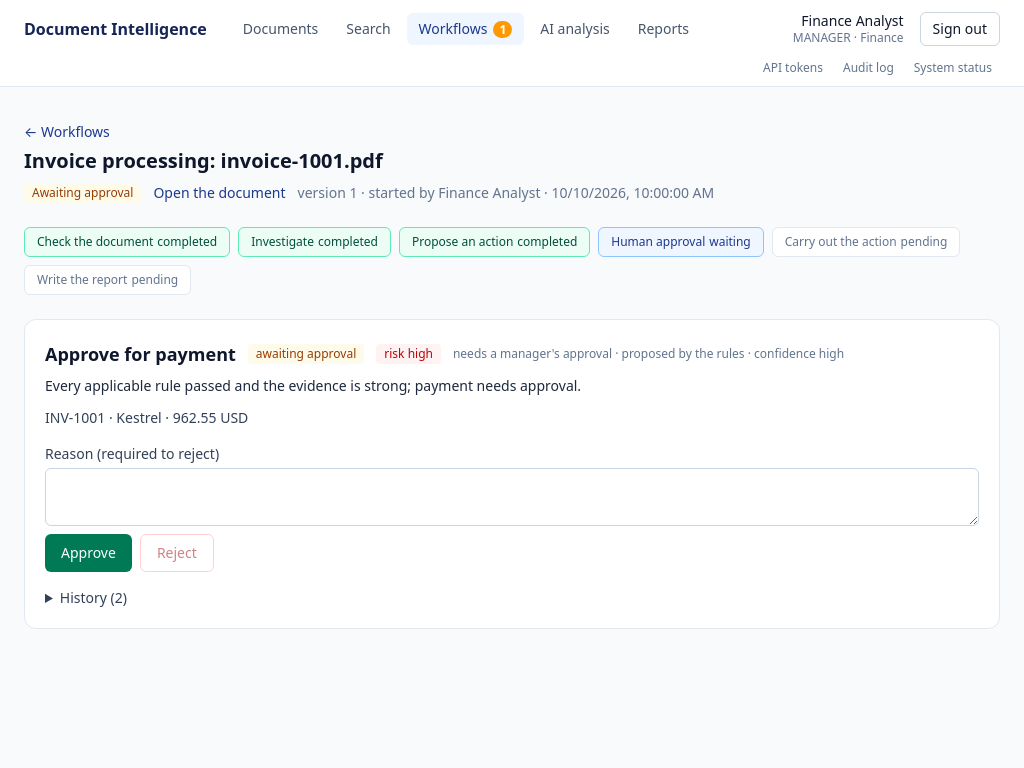
Test: Workflows › shows the server's refusal when a decision fails
In the text box labelled "Reason (required to reject)": (512,497) [45,468,979,526], type "Wrong vendor."
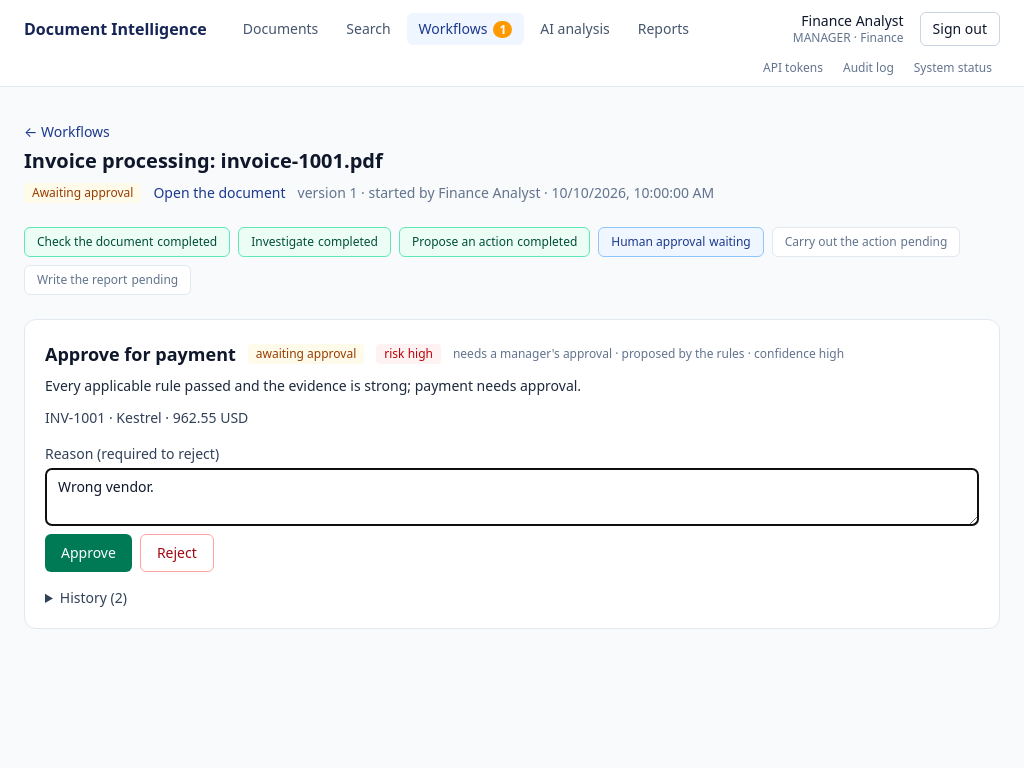
Click the button "Reject": (177,553) [140,534,214,572]
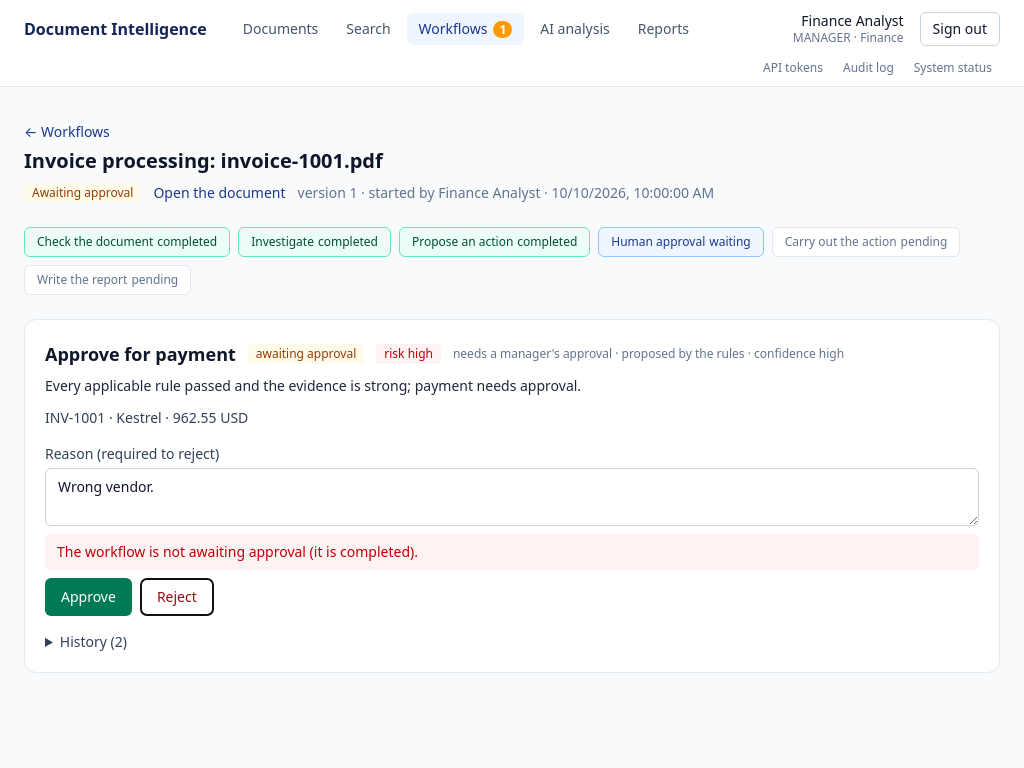
Check: the message shows "not awaiting approval", box [57,542,418,561]
